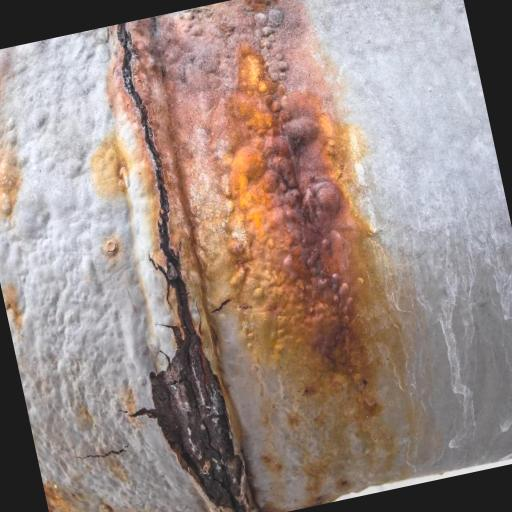segmentation: (90, 0, 440, 512), (118, 22, 255, 512)
